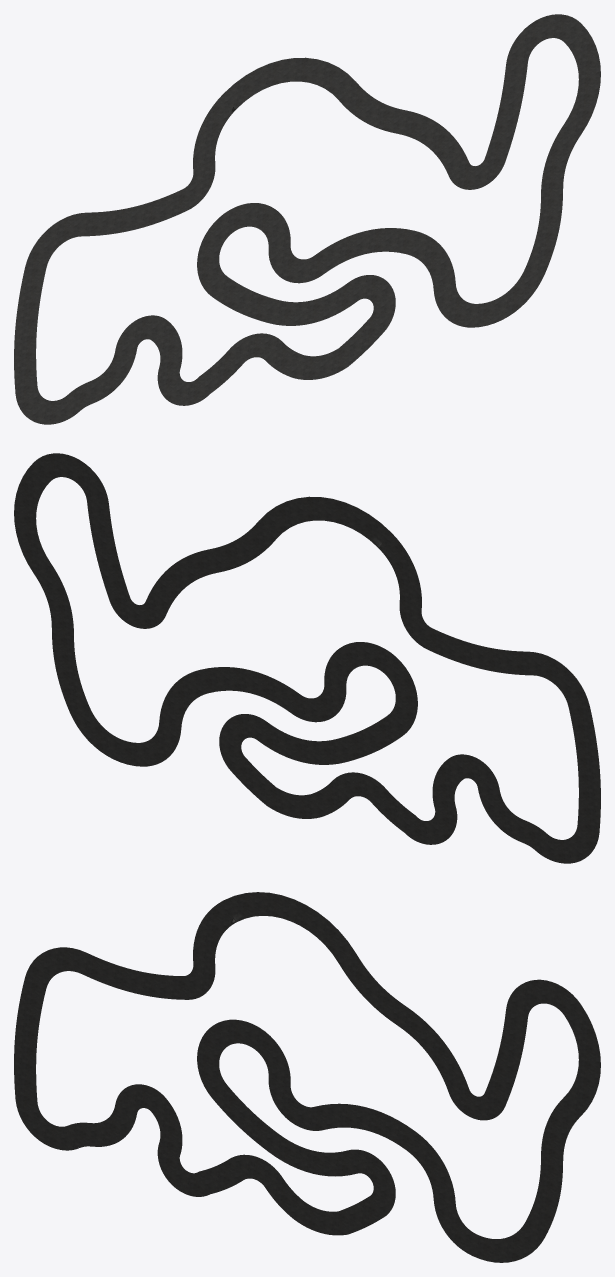
The model's file is track10_road.obj.
3 renders of one model, top to bottom at view 1: azimuth 30°, elevation 25°; view 2: azimuth 150°, elevation 25°; view 3: azimuth 330°, elevation 25°, orthographic.
Visible parts, largest first — view 1: road_0_curve_.004; view 2: road_0_curve_.004; view 3: road_0_curve_.004.
Part boxes in pixels (bbox=[...]): road_0_curve_.004: bbox=[14, 14, 600, 424]; road_0_curve_.004: bbox=[14, 453, 600, 863]; road_0_curve_.004: bbox=[14, 892, 600, 1262].
Size of the model in its own units: 43.43 by 23.21 by 0.
1 material, 1 textured.
